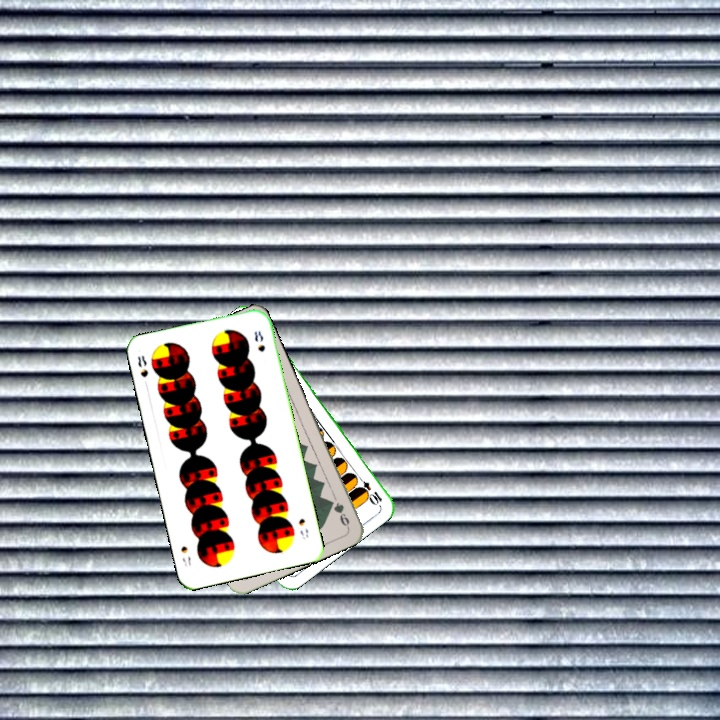E10: (352, 471, 385, 507)
G9: (329, 498, 352, 530)
S8: (133, 351, 151, 380), (295, 514, 311, 542)
